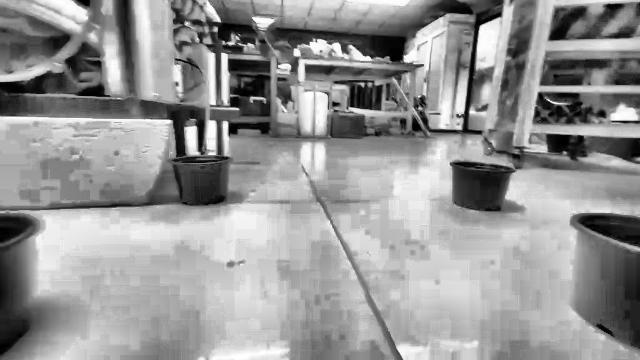pot: (571, 213, 639, 349), (0, 213, 37, 352), (451, 161, 515, 211), (169, 155, 231, 206)
